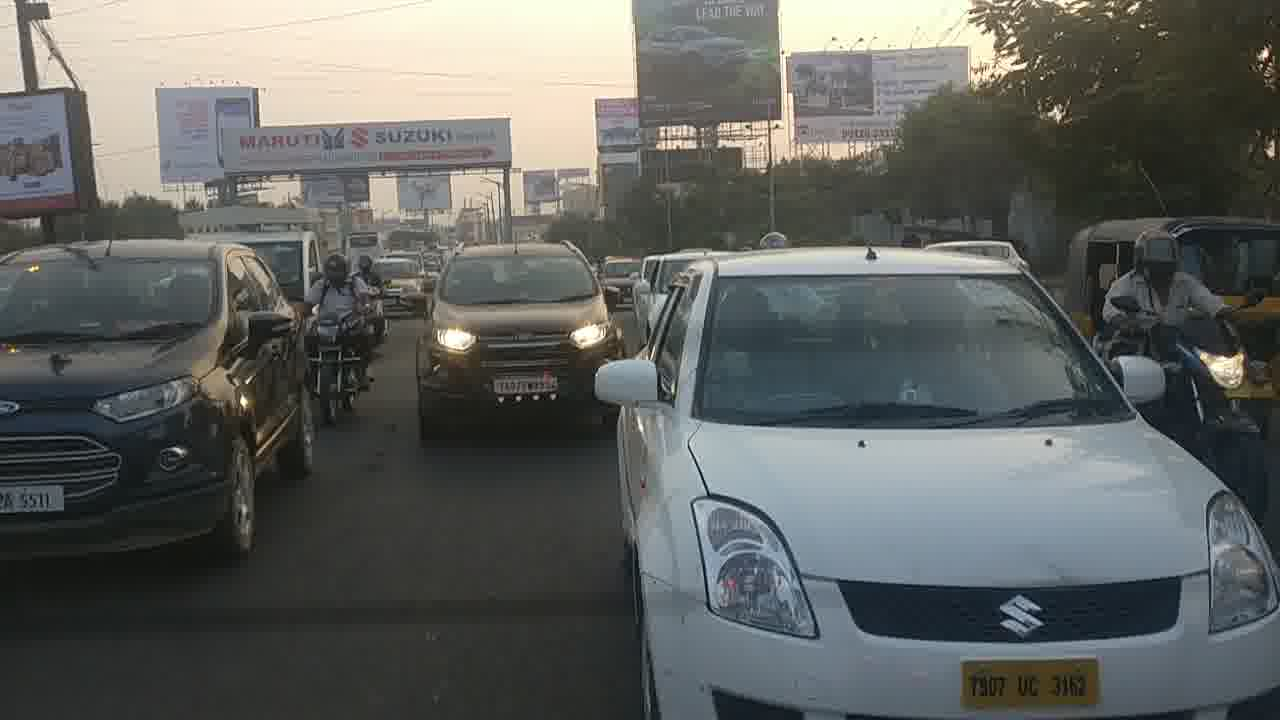swift desire: (621, 271, 1276, 720)
